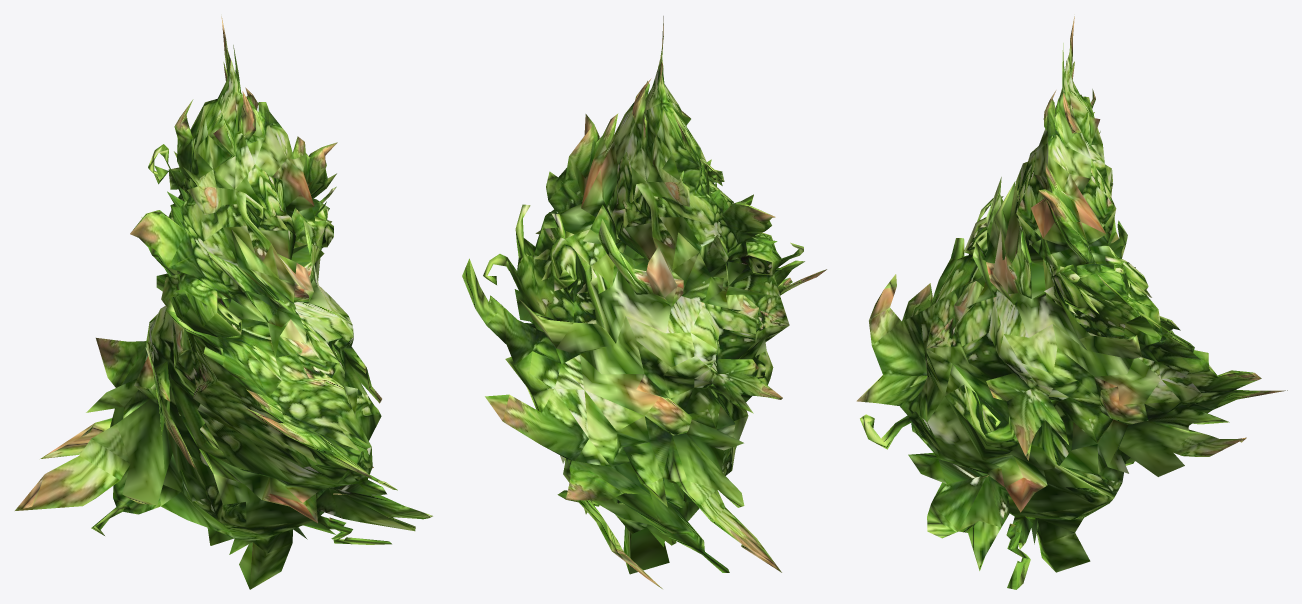
Rendered from corkscrew_bud.glb.
The picture shows the model from 3 angles, left to right: view 1: azimuth 30°, elevation 25°; view 2: azimuth 150°, elevation 25°; view 3: azimuth 270°, elevation 25°; orthographic projection. The views are drawn at different scales.
Visible parts, largest first — view 1: Mesh; view 2: Mesh; view 3: Mesh.
Part boxes in pixels (x1,y1,x2,y2): Mesh: [15, 16, 432, 589]; Mesh: [462, 16, 826, 588]; Mesh: [856, 16, 1287, 589].
Bounding box in the file's own units: 0.5368 × 0.9213 × 0.6697.
Materials: 1 (1 with a texture image).
